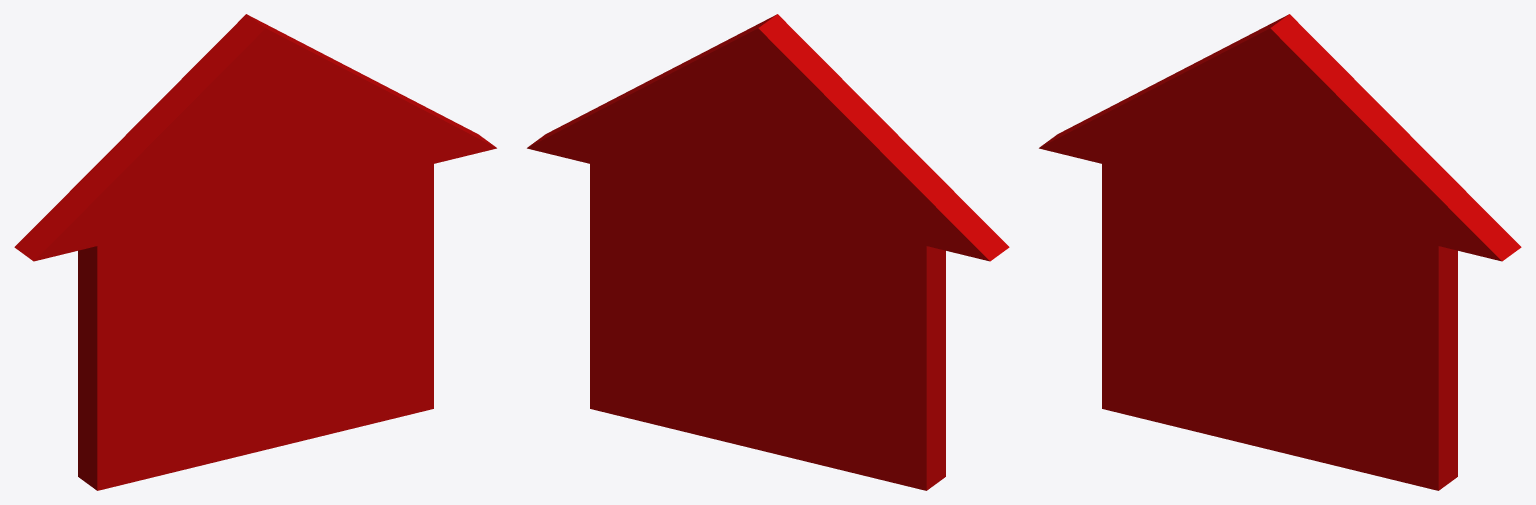
File: home.dae
3 views of the same model, side by side, from view 1: azimuth 30°, elevation 25°; view 2: azimuth 150°, elevation 25°; view 3: azimuth 330°, elevation 25° (orthographic).
Visible parts, largest first — view 1: Cube; view 2: Cube; view 3: Cube.
Part boxes in pixels (bbox=[...]): Cube: bbox=[14, 14, 496, 490]; Cube: bbox=[527, 14, 1009, 490]; Cube: bbox=[1039, 14, 1521, 490].
Size of the model in its own units: 138 by 120 by 10.
1 material, 1 textured.
